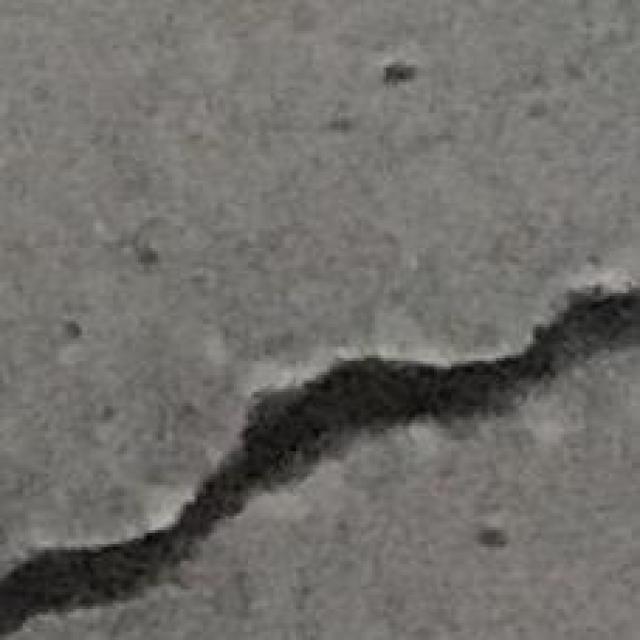Diagonal: (2, 273, 640, 640)
